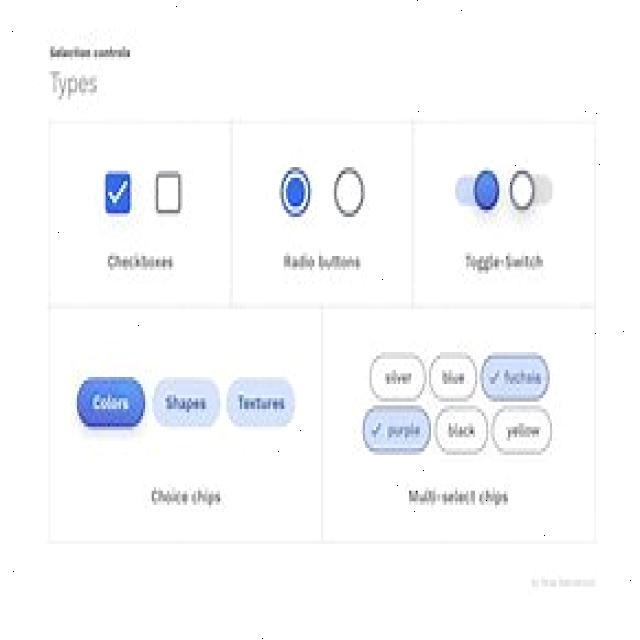button: (73, 370, 146, 434), (152, 372, 223, 437), (225, 372, 298, 432), (479, 349, 552, 403), (360, 403, 432, 455), (489, 403, 554, 457), (369, 347, 427, 402), (432, 403, 489, 454), (427, 350, 479, 400)
checkbox: (102, 168, 133, 215), (154, 170, 184, 217)
label: (404, 484, 520, 510), (461, 248, 548, 279), (144, 484, 226, 514), (46, 65, 107, 105), (46, 38, 138, 64), (282, 248, 366, 276), (527, 570, 603, 596), (104, 249, 179, 274)
radio: (332, 163, 367, 220), (278, 164, 312, 221)
switch: (507, 164, 556, 216), (454, 163, 500, 214)
